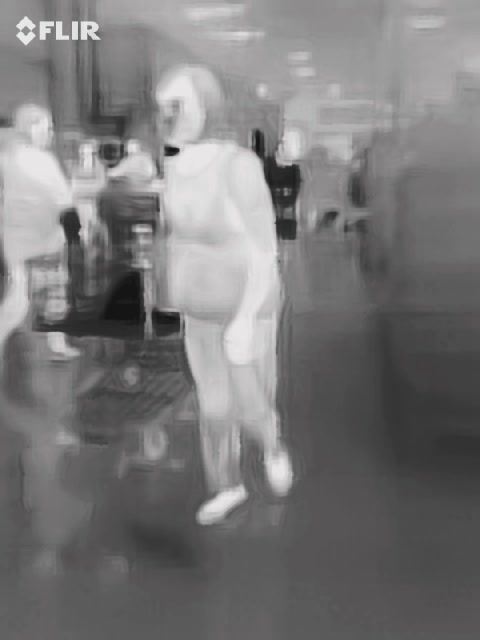head: (150, 61, 221, 148)
